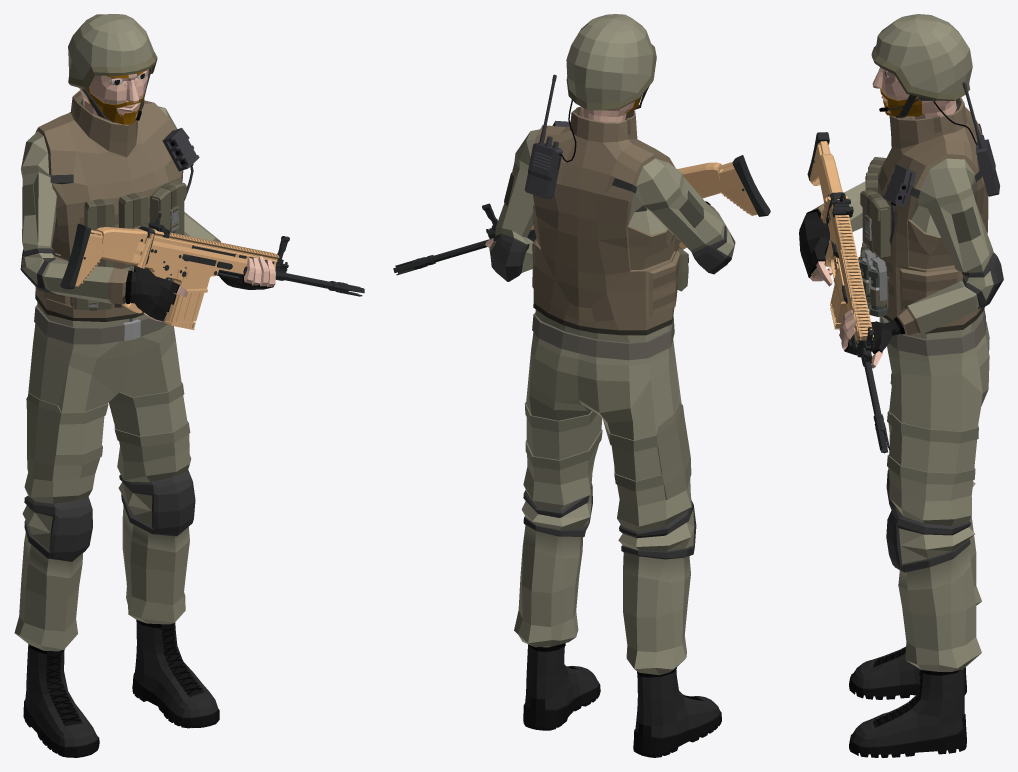
Rendered from FREEscene.obj.
3 views of the same model, side by side, from view 1: azimuth 30°, elevation 25°; view 2: azimuth 150°, elevation 25°; view 3: azimuth 270°, elevation 25° (orthographic).
Visible parts, largest first — view 1: Legs_01.001, Torso_01.001, Boots_01.001, fn_Scar.001, Helmet_01.001, Hands_01.001, Head_01.001, Beard_01.001; view 2: Legs_01.001, Torso_01.001, Boots_01.001, Helmet_01.001, fn_Scar.001; view 3: Legs_01.001, Torso_01.001, Boots_01.001, fn_Scar.001, Helmet_01.001, Hands_01.001, Head_01.001, Beard_01.001.
Part boxes in pixels (left/top/right/bottom): Legs_01.001: left=14, top=305, right=195, bottom=651; Torso_01.001: left=20, top=90, right=220, bottom=327; Boots_01.001: left=23, top=620, right=219, bottom=757; fn_Scar.001: left=60, top=213, right=364, bottom=329; Helmet_01.001: left=68, top=14, right=157, bottom=122; Hands_01.001: left=133, top=256, right=275, bottom=321; Head_01.001: left=79, top=69, right=148, bottom=121; Beard_01.001: left=87, top=87, right=144, bottom=124; Legs_01.001: left=514, top=313, right=696, bottom=675; Torso_01.001: left=489, top=74, right=735, bottom=342; Boots_01.001: left=523, top=643, right=721, bottom=757; Helmet_01.001: left=566, top=14, right=656, bottom=110; fn_Scar.001: left=393, top=155, right=770, bottom=275; Legs_01.001: left=879, top=309, right=989, bottom=671; Torso_01.001: left=805, top=82, right=1003, bottom=339; Boots_01.001: left=849, top=646, right=966, bottom=757; fn_Scar.001: left=807, top=132, right=890, bottom=453; Helmet_01.001: left=871, top=14, right=972, bottom=118; Hands_01.001: left=799, top=214, right=896, bottom=368; Head_01.001: left=872, top=67, right=956, bottom=119; Beard_01.001: left=880, top=88, right=922, bottom=116.
Bounding box in the file's own units: 0.909 × 1.8 × 0.4776.
1 material, 1 textured.
